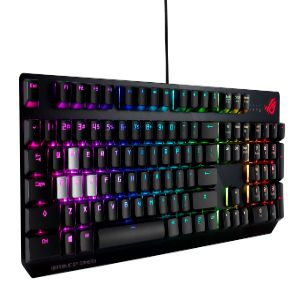keyboard: (14, 71, 292, 280)
